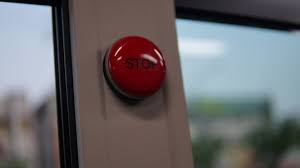bell: (101, 33, 171, 106)
